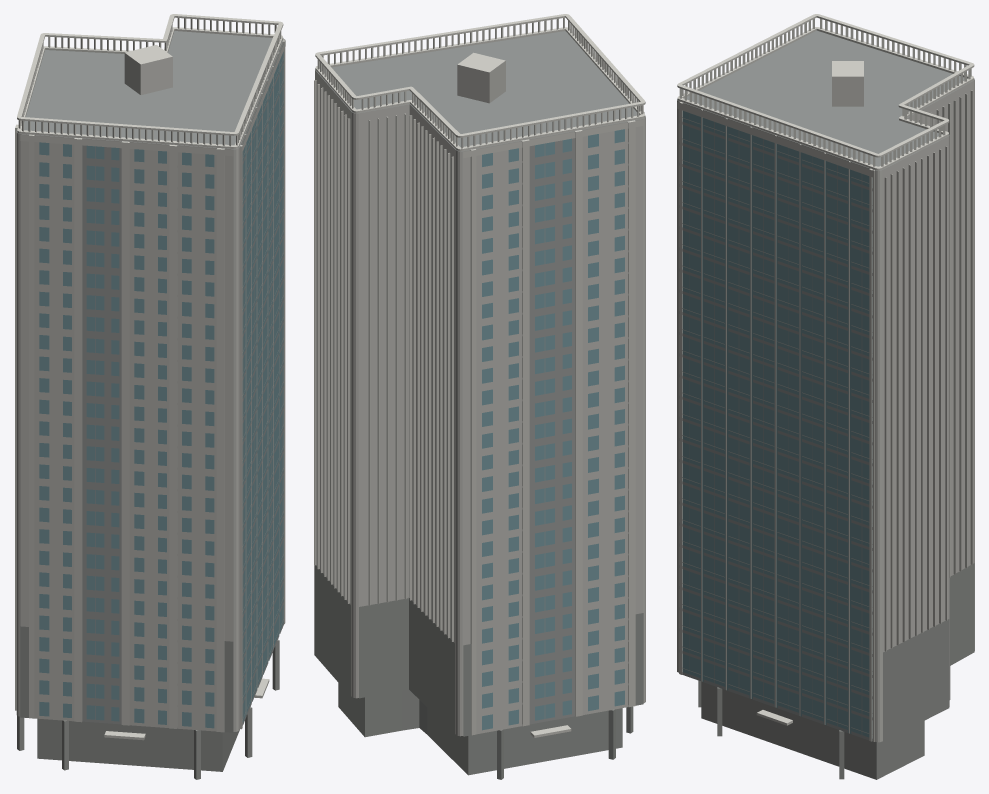
Rendered from maple-xi-207.glb.
3 views of the same model, side by side, from view 1: azimuth 30°, elevation 25°; view 2: azimuth 150°, elevation 25°; view 3: azimuth 270°, elevation 25° (orthographic). The views are drawn at different scales.
Visible parts, largest first — view 1: maple-xi-207; view 2: maple-xi-207; view 3: maple-xi-207.
Part boxes in pixels (x1,y1,x2,y2): maple-xi-207: [15, 14, 285, 779]; maple-xi-207: [314, 14, 645, 779]; maple-xi-207: [677, 14, 974, 779].
Bounding box in the file's own units: 44.56 × 94.56 × 39.39.
